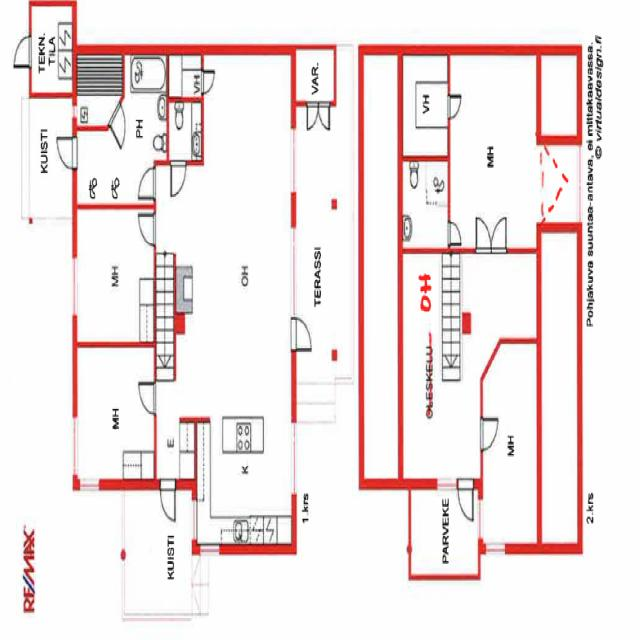door: (108, 100, 130, 146), (457, 479, 474, 525), (292, 318, 312, 351), (160, 479, 175, 520), (58, 138, 78, 168), (476, 216, 492, 253), (492, 216, 508, 253), (139, 168, 157, 199), (480, 418, 498, 449), (139, 214, 157, 244), (15, 36, 32, 67), (172, 159, 186, 196), (140, 384, 156, 414), (312, 101, 326, 134), (201, 71, 215, 94), (448, 95, 462, 118), (448, 221, 461, 244)
